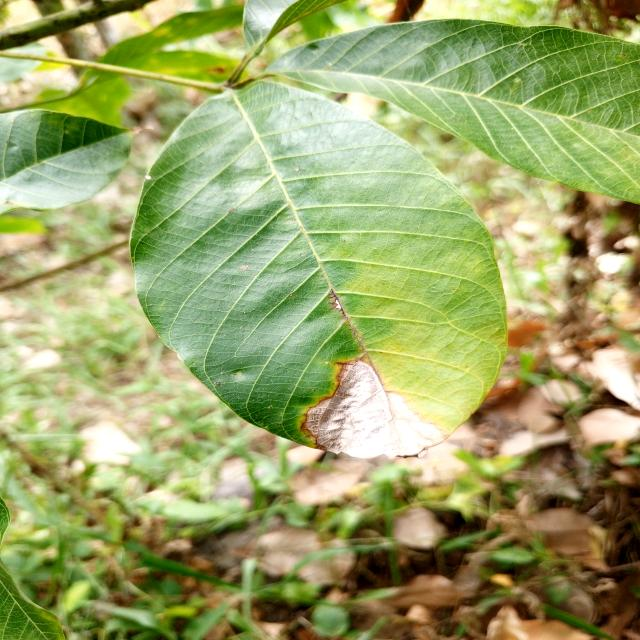Colletotrichum: (145, 174, 153, 180), (294, 167, 300, 172), (292, 218, 296, 222)
Corynespora: (328, 289, 347, 319)
Leaf-Blight: (304, 358, 449, 458)
